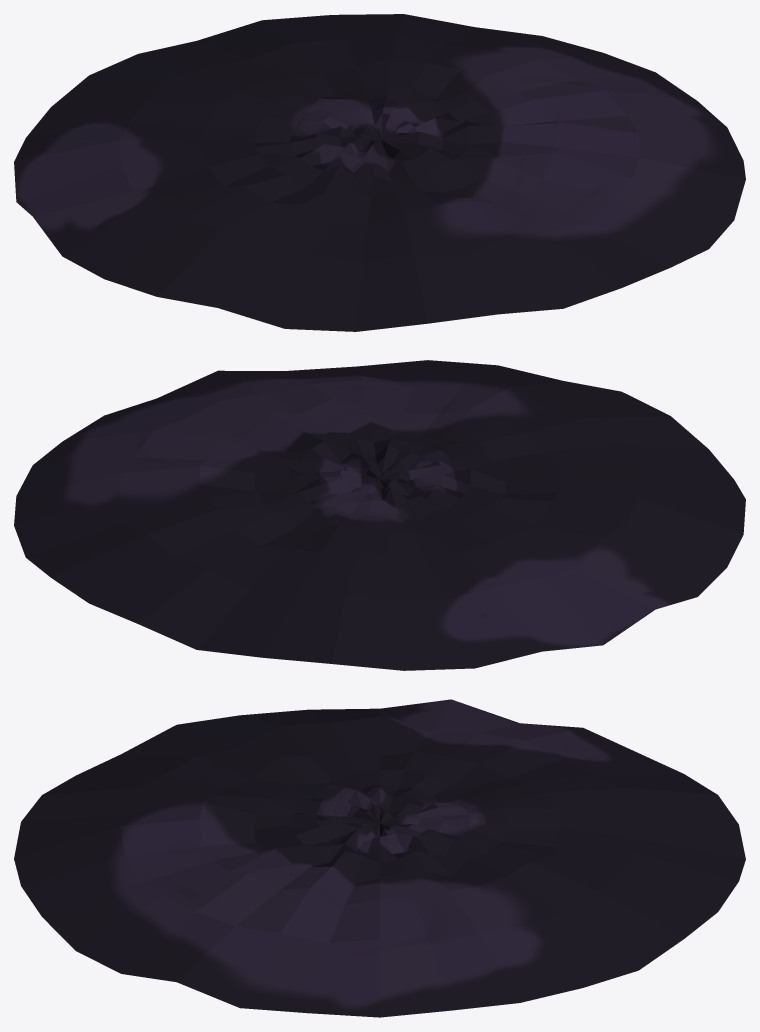
Rendered from tar pit.fbx.
The picture shows the model from 3 angles, top to bottom: view 1: azimuth 30°, elevation 25°; view 2: azimuth 150°, elevation 25°; view 3: azimuth 270°, elevation 25°; orthographic projection.
Visible parts, largest first — view 1: Sphere; view 2: Sphere; view 3: Sphere.
Part boxes in pixels (<box>): Sphere: <box>14,14,745,331</box>; Sphere: <box>14,360,745,670</box>; Sphere: <box>14,699,745,1017</box>.
Bounding box in the file's own units: 741 × 58.25 × 741.
Materials: 1 (1 with a texture image).
